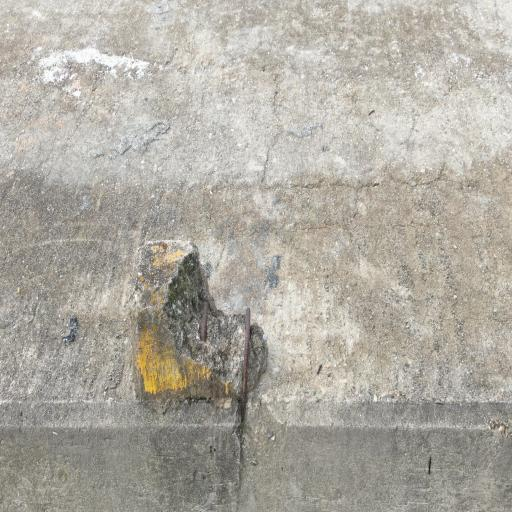exposed_rebar: (242, 308, 250, 420), (201, 302, 209, 340), (428, 457, 431, 474)
